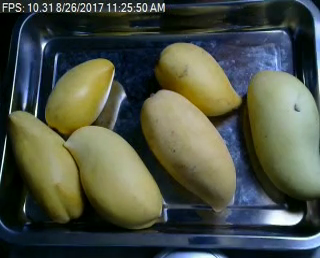Mango: (141, 89, 236, 211), (64, 125, 163, 229), (245, 69, 320, 200), (8, 110, 84, 221), (154, 43, 241, 115), (43, 58, 115, 136)
